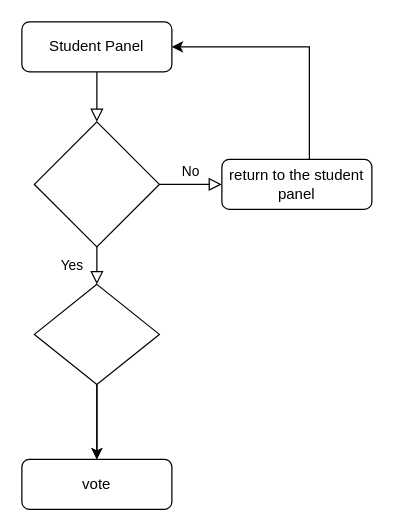
Image size: 394x531. Some labels were removed from this diagram. Each missing label, with the box of its shape:
Enter student id: (33, 121, 159, 247)
show candidates in election race: (33, 283, 159, 384)
